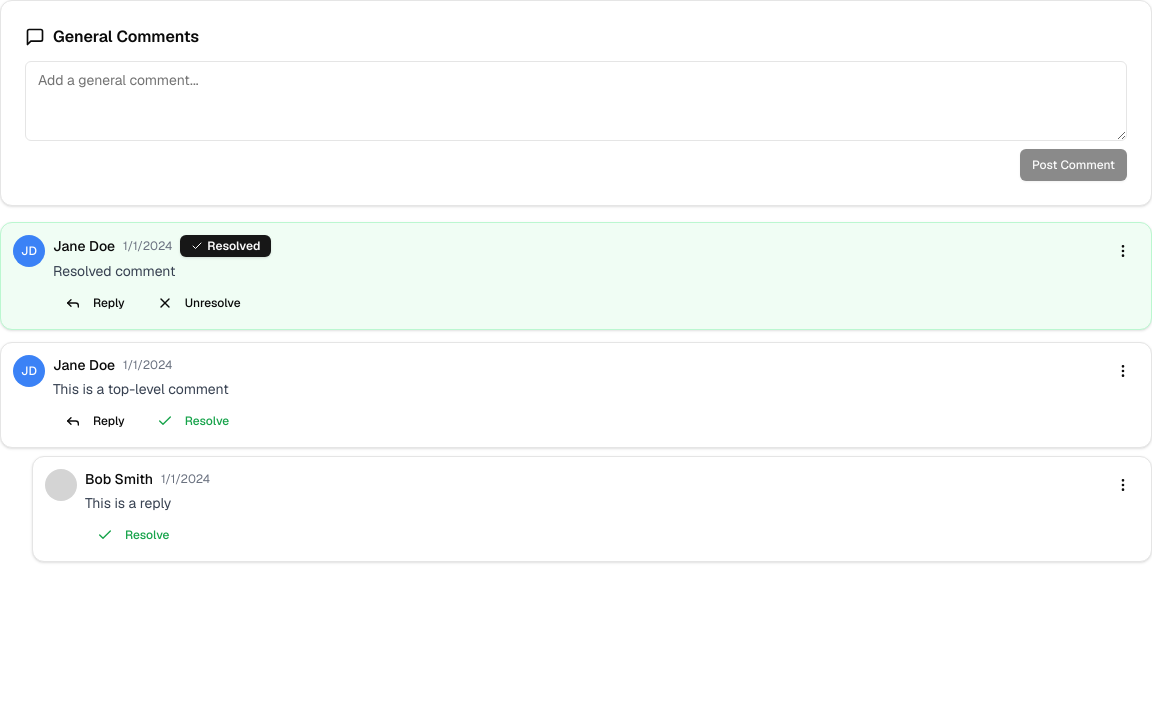
Scenario: CommentThread › Replying to Comments › should open reply form when reply button clicked
What coordinates should you click on to do the following:
click the button "Reply" below "Resolved comment"
I would click on:
 (95, 303)
Its box is [53,289,137,317].
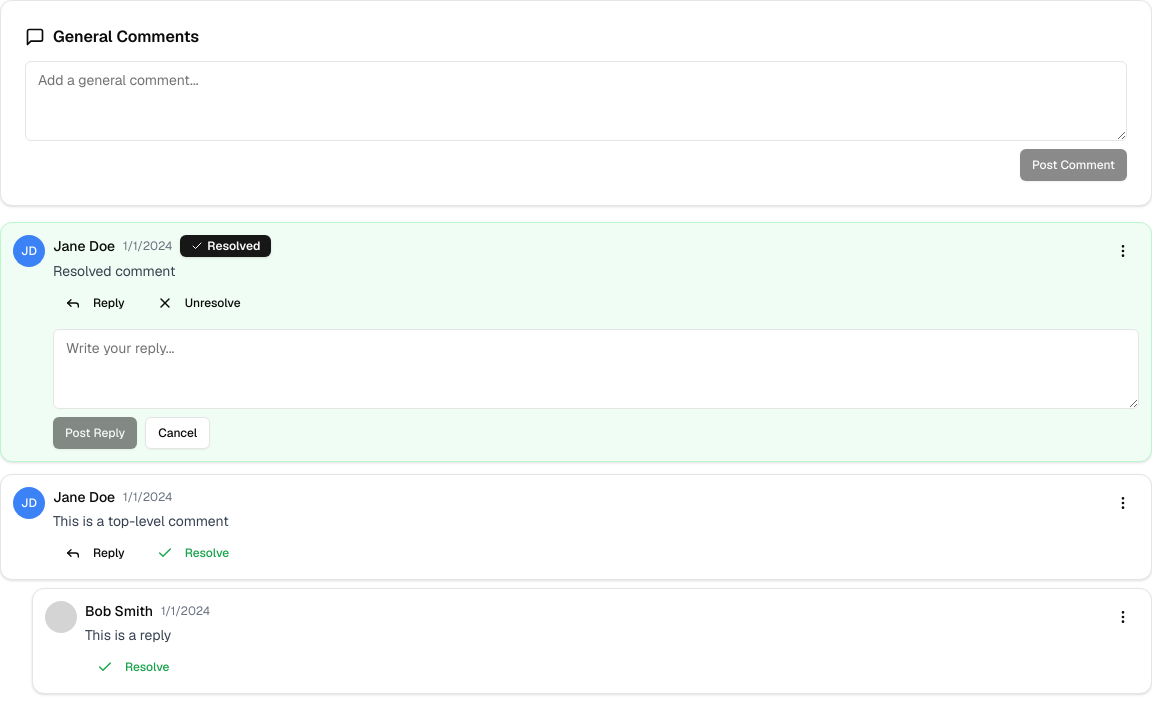
Check: the text box with placeholder "Write your reply..." is shown, box [53,329,1139,409]
Check: the button "Post Reply" is shown, box [53,417,137,449]
